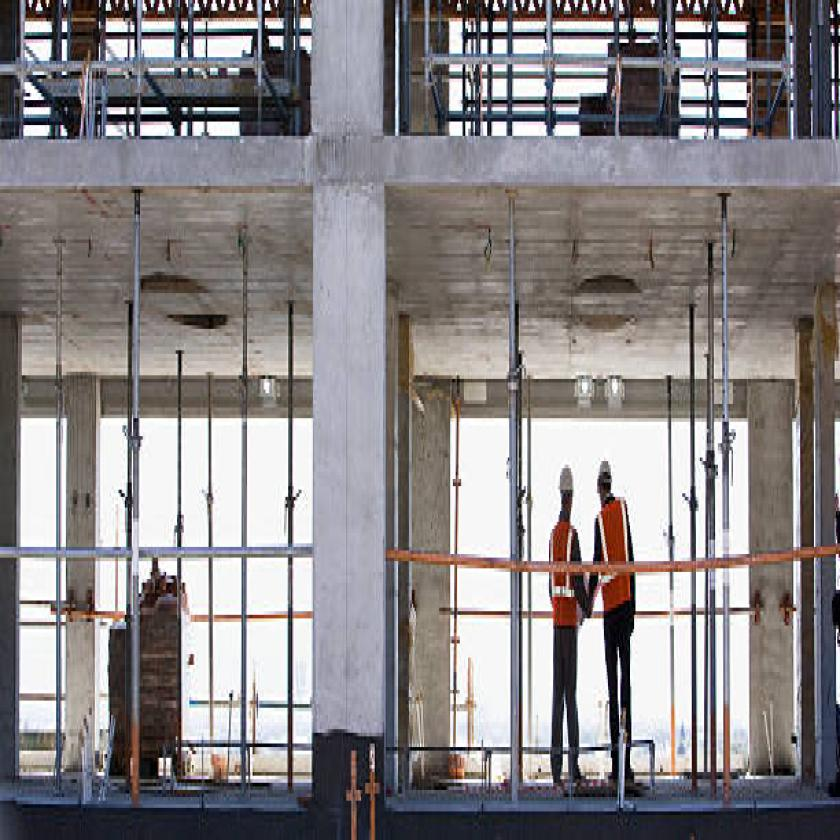Con_casco: (553, 454, 576, 530), (596, 436, 616, 511)
